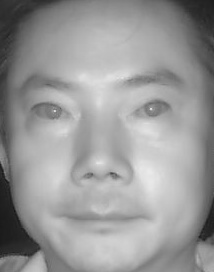eye: (126, 95, 172, 125), (31, 98, 73, 128)
mouth: (54, 192, 149, 241)
